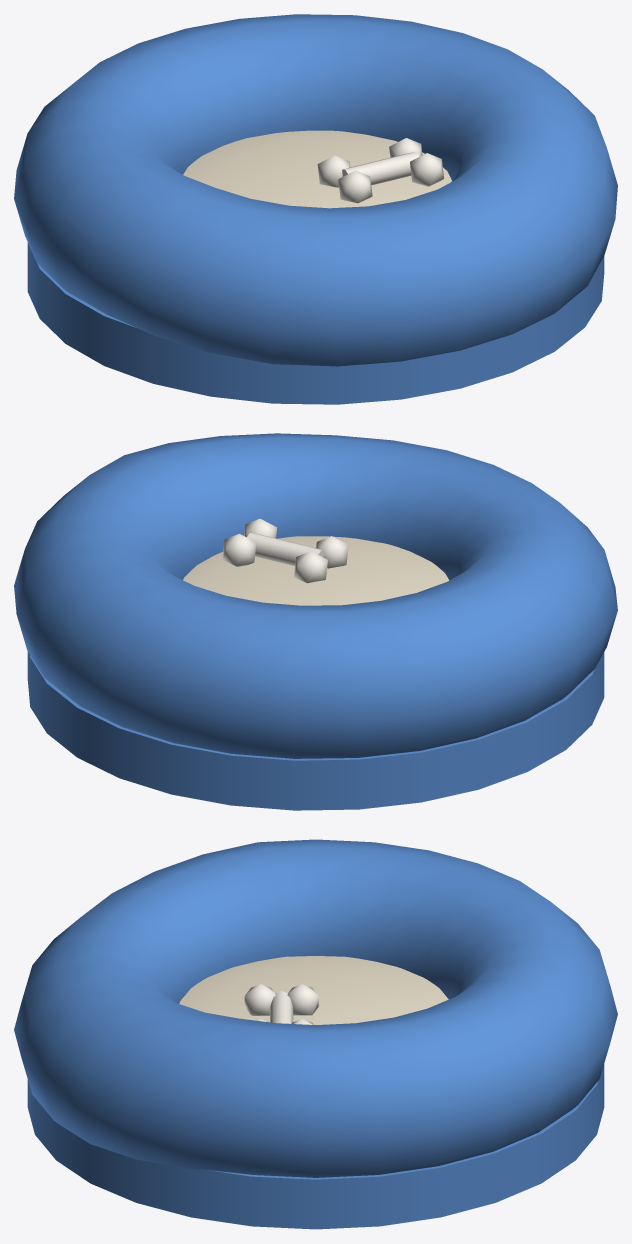
The model's file is caminha-pet.glb.
3 renders of one model, top to bottom at view 1: azimuth 30°, elevation 25°; view 2: azimuth 150°, elevation 25°; view 3: azimuth 270°, elevation 25°, orthographic.
Visible parts, largest first — view 1: caminha-pet; view 2: caminha-pet; view 3: caminha-pet.
Boxes of the visible parts, left/top/right/bottom form: caminha-pet: left=14, top=14, right=617, bottom=404; caminha-pet: left=14, top=433, right=617, bottom=810; caminha-pet: left=14, top=839, right=617, bottom=1229.
Bounding box in the file's own units: 0.88 × 0.27 × 0.88.
